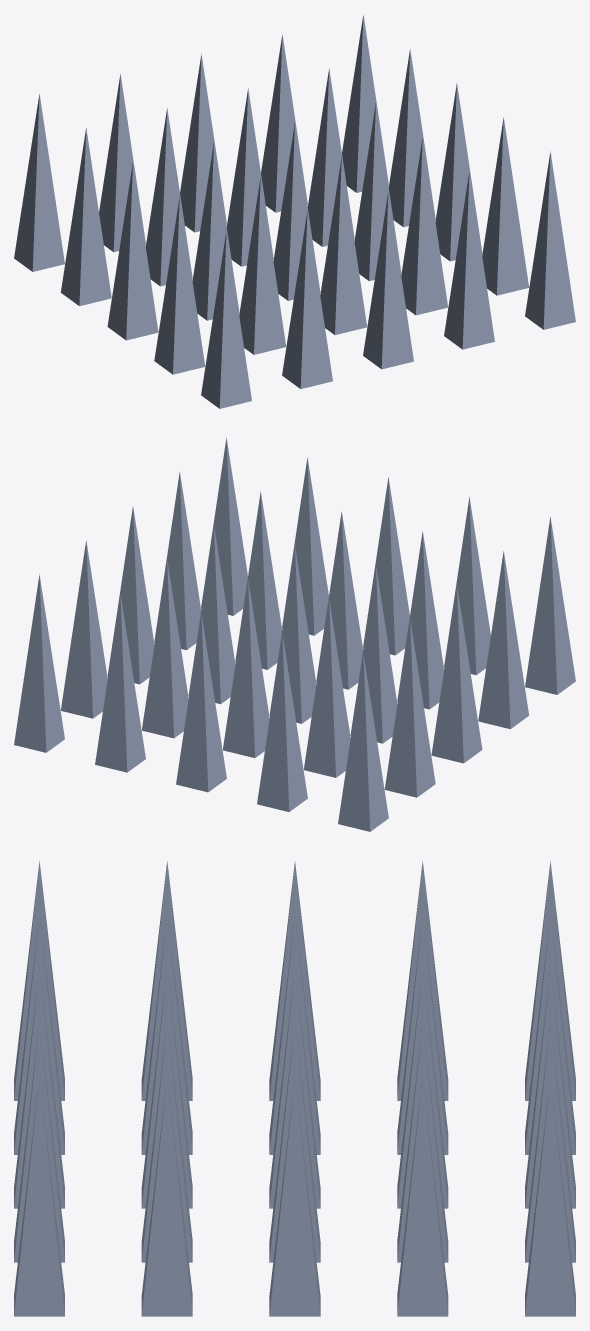
Rendered from n2_spikes_light_grey_0_lev2.002.glb.
3 renders of one model, top to bottom at view 1: azimuth 30°, elevation 25°; view 2: azimuth 150°, elevation 25°; view 3: azimuth 270°, elevation 25°, orthographic. The views are drawn at different scales.
Parts seen in each view (by area): view 1: n2_spikes_light_grey_0_lev2.002; view 2: n2_spikes_light_grey_0_lev2.002; view 3: n2_spikes_light_grey_0_lev2.002.
Part boxes in pixels (box(x1,y1,x2,y2)): n2_spikes_light_grey_0_lev2.002: box(14, 14, 575, 408); n2_spikes_light_grey_0_lev2.002: box(14, 437, 575, 831); n2_spikes_light_grey_0_lev2.002: box(14, 860, 575, 1316).
Size of the model in its own units: 2.23 by 1.01 by 2.23.
